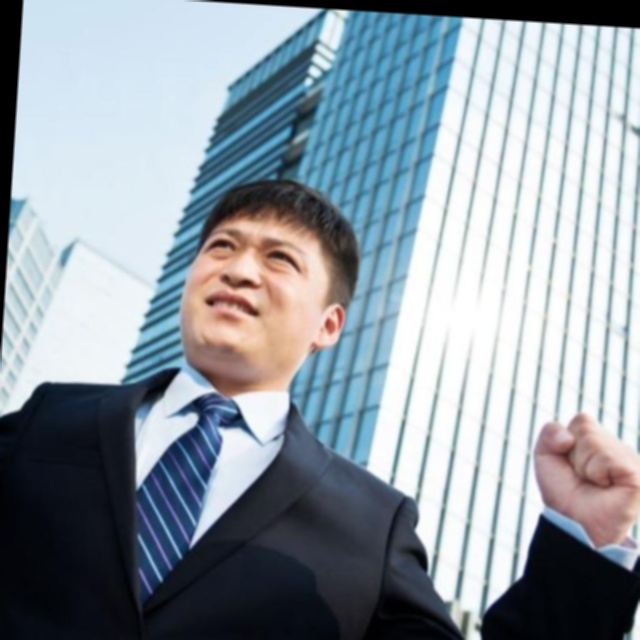Sin_Casco_Mascarrilla: (176, 176, 362, 380)
Sin_Chaleco: (0, 373, 400, 640)
